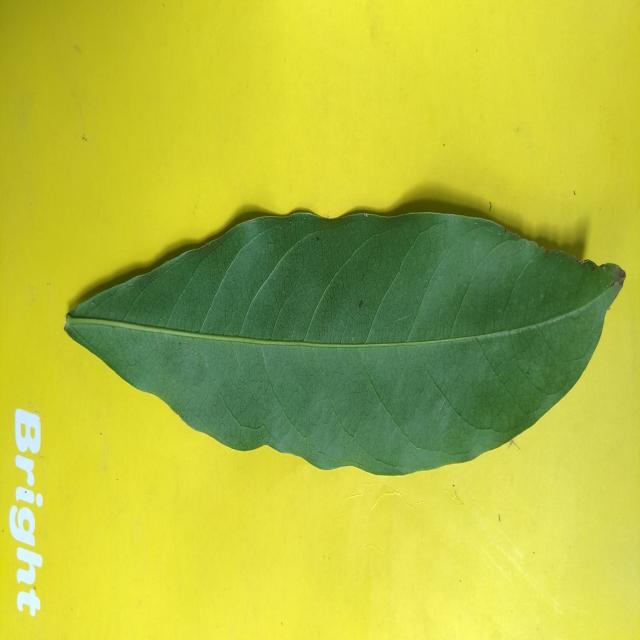seethaashoka: (65, 213, 625, 476)
